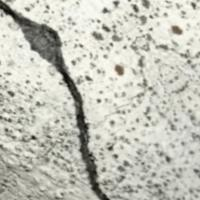crack: (0, 2, 134, 199)
